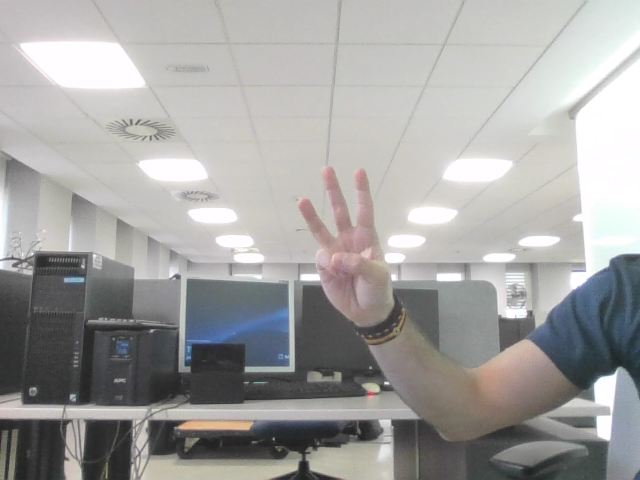3Dedos: (308, 181, 375, 291)
